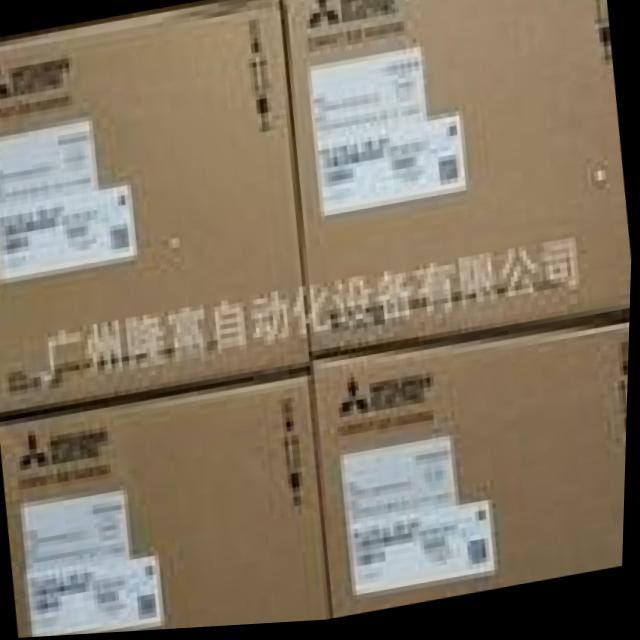box: (280, 0, 633, 355), (312, 320, 632, 622), (0, 369, 337, 638)
